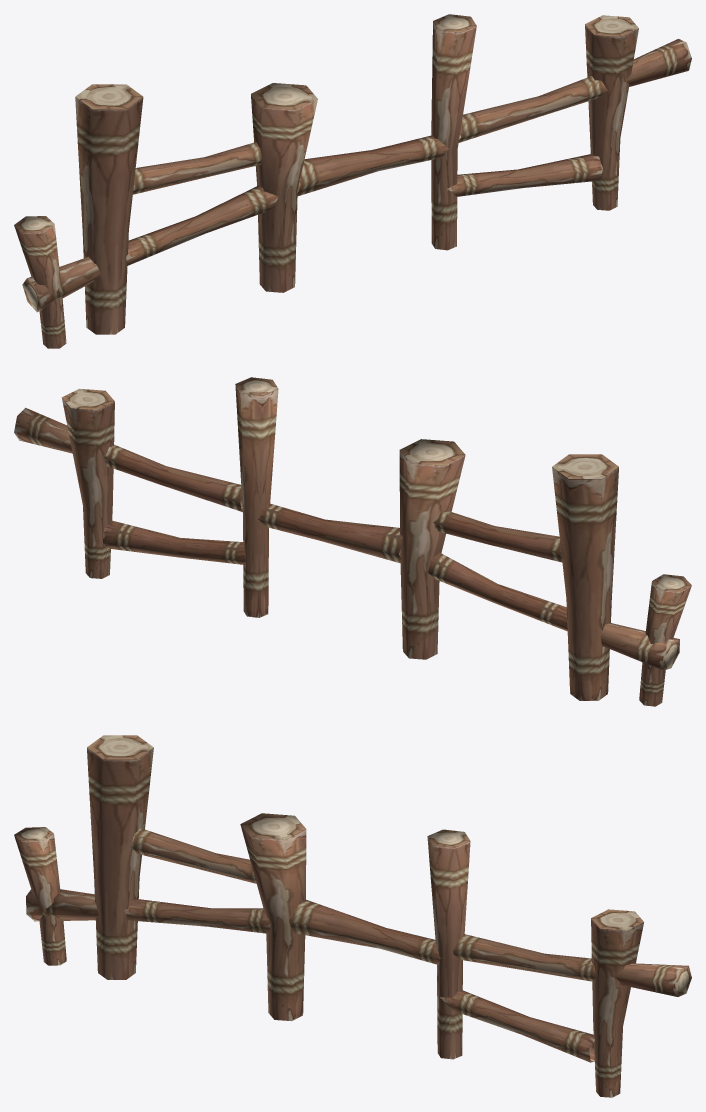
File: Map_04_fence01.FBX
3 renders of one model, top to bottom at view 1: azimuth 30°, elevation 25°; view 2: azimuth 150°, elevation 25°; view 3: azimuth 330°, elevation 25°, orthographic.
Visible parts, largest first — view 1: Map_04_fence01; view 2: Map_04_fence01; view 3: Map_04_fence01.
Boxes of the visible parts, x1=… form: Map_04_fence01: x1=14, y1=14, x2=691, y2=348; Map_04_fence01: x1=14, y1=377, x2=691, y2=706; Map_04_fence01: x1=14, y1=735, x2=691, y2=1097.
Size of the model in its own units: 96.06 by 31.48 by 10.82.
1 material, 1 textured.
